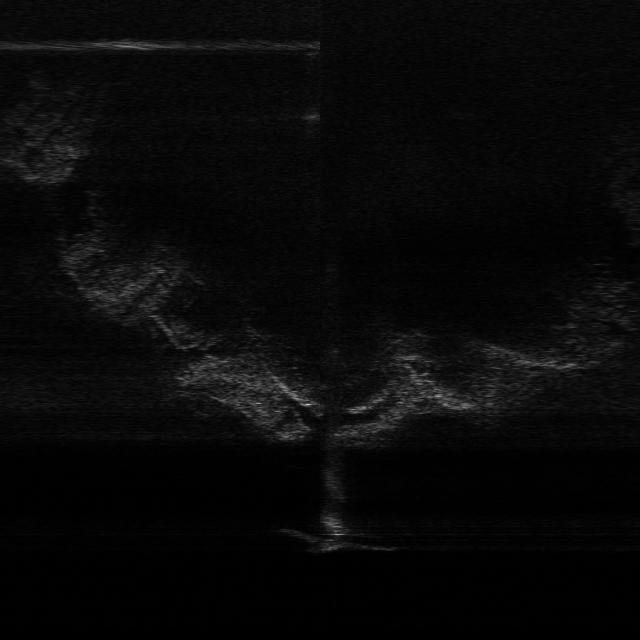plane: (273, 506, 398, 554)
